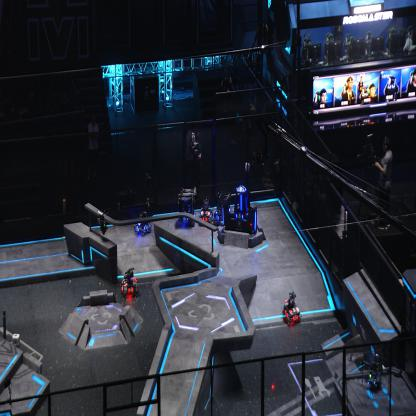car: (282, 290, 302, 326), (177, 186, 195, 225), (212, 190, 230, 227), (120, 266, 139, 300), (132, 207, 152, 236), (199, 198, 214, 227)
